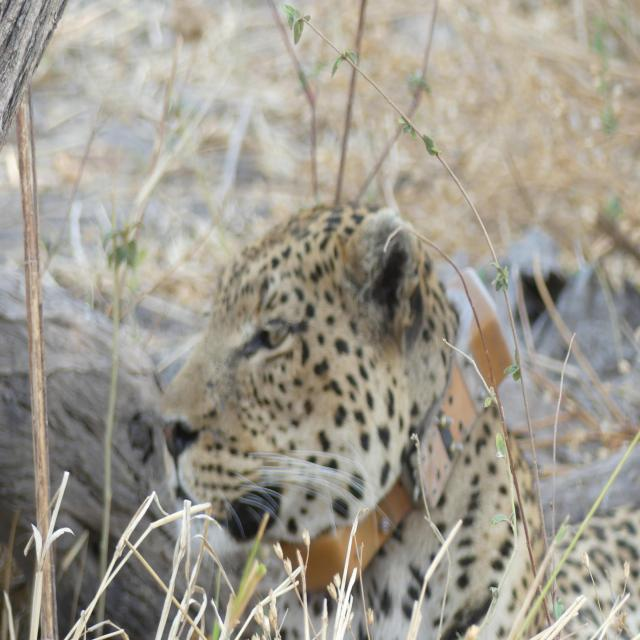Leopard: (139, 192, 633, 640)
